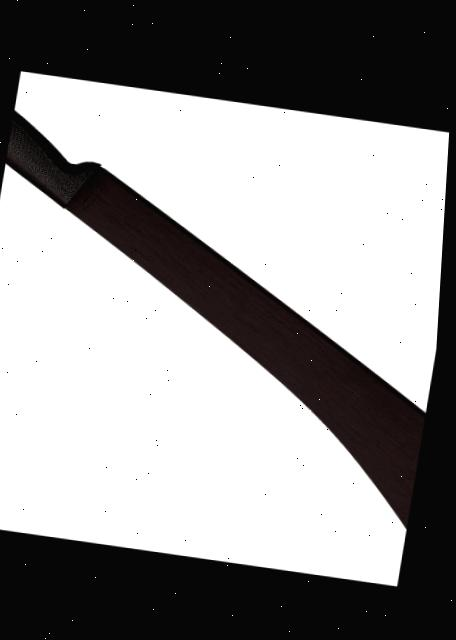long knife: (0, 72, 453, 562)
